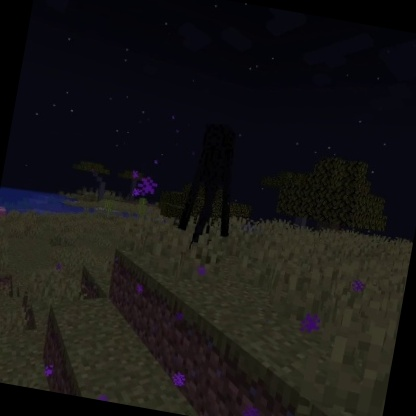enderman: (170, 117, 250, 260)
